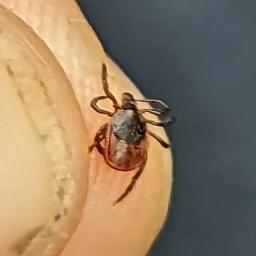Ixodes scapularis: (86, 62, 172, 203)
